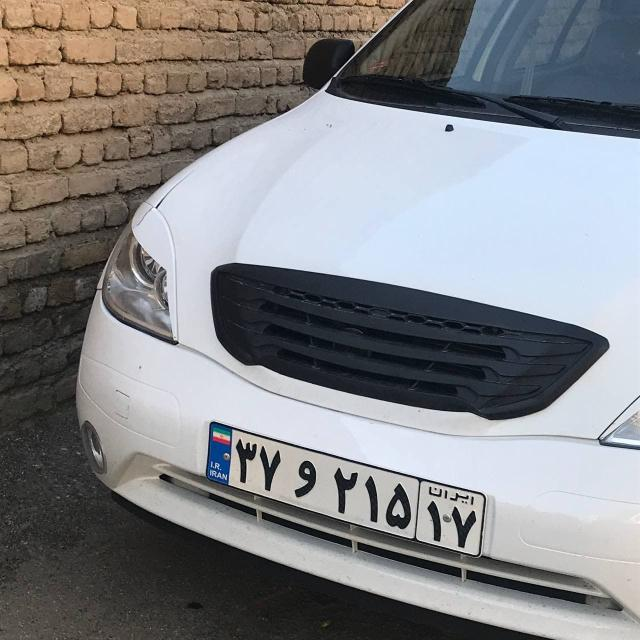Plates: (194, 421, 496, 558)
